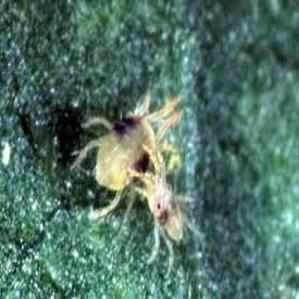spider mite: (69, 81, 186, 190), (112, 153, 197, 261)
